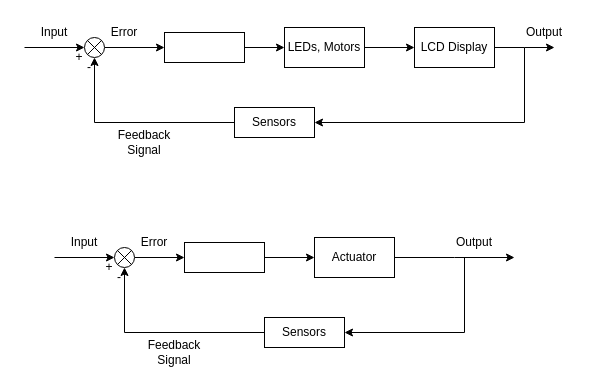
Image size: 592x384. Some labels were removed from this diagram. Here are the shapes that lost their labels. From the top down, the centre of each, then its label:
pixel 204 47: Controller
pixel 224 257: MCU
